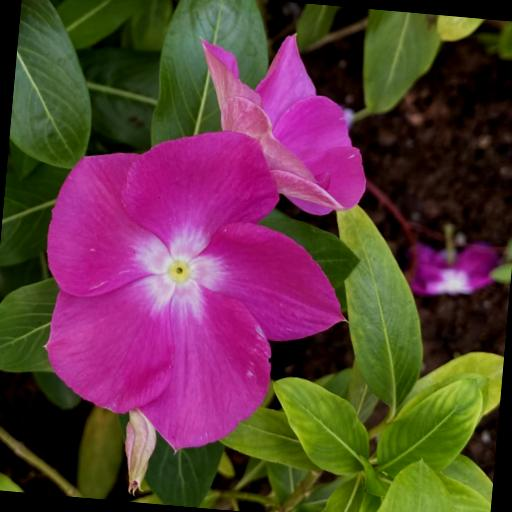Periwinkle: (40, 134, 353, 455)
